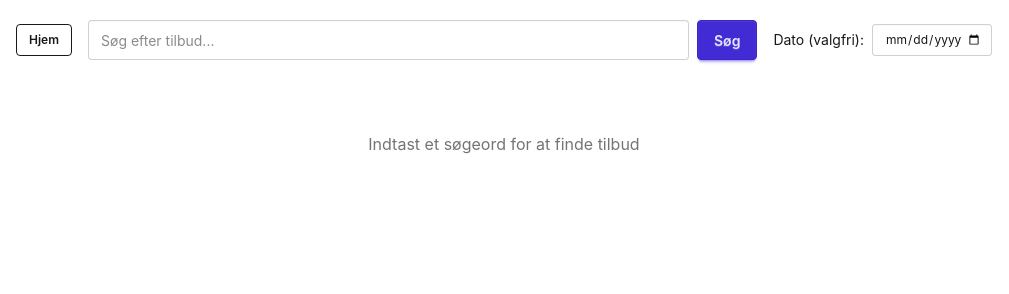
SearchPage › searches and displays results in a table
In the field with placeholder "Søg efter tilbud...": (388, 40) [88,20,689,60], type "mælk"
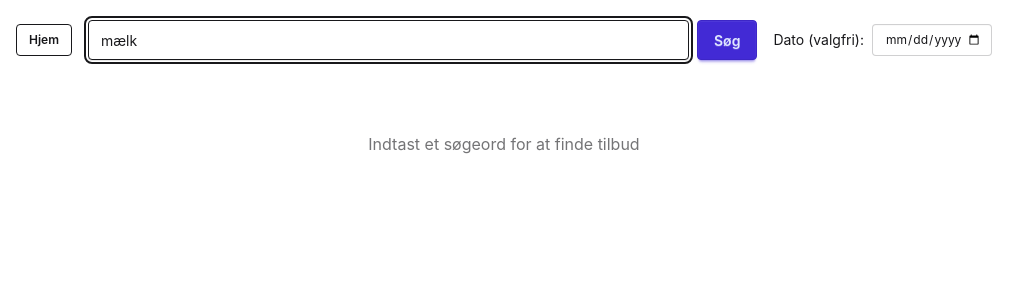
Click the button "Søg": click(727, 40) [697,20,757,60]
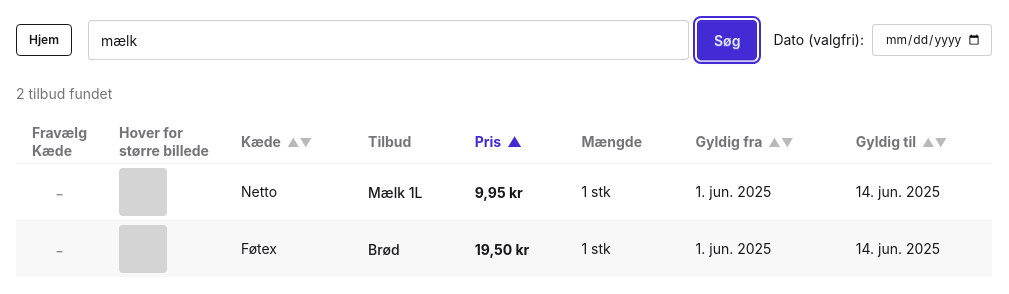
Expected: the text "Mælk 1L" is shown, [368,184,422,200]
Expected: the text "Brød" is shown, [368,240,400,258]
Expected: the text "2 tilbud fundet" is shown, [16,85,112,102]
